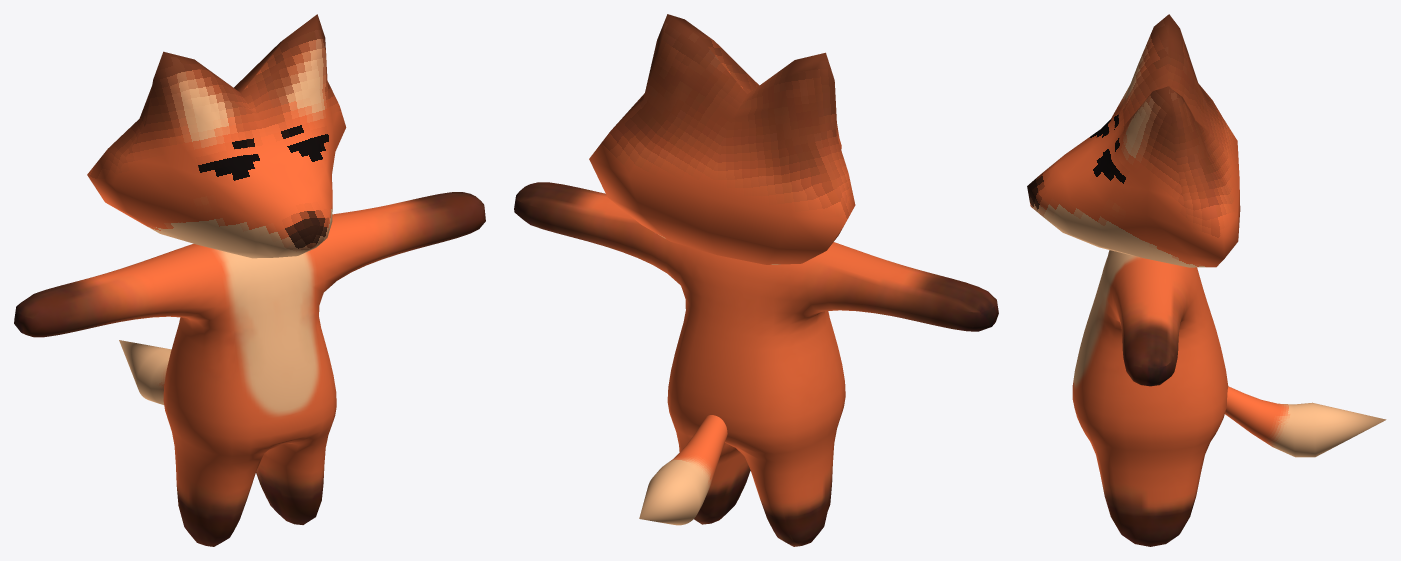
Rendered from foxeeeelast.fbx.
3 views of the same model, side by side, from view 1: azimuth 30°, elevation 25°; view 2: azimuth 150°, elevation 25°; view 3: azimuth 270°, elevation 25° (orthographic). The views are drawn at different scales.
Parts seen in each view (by area): view 1: body, head, tail; view 2: body, head, tail; view 3: body, head, tail.
Boxes of the visible parts, x1,y1,x2,y2 form: body: (14,192,485,546); head: (87,14,346,258); tail: (119,340,171,404); body: (514,182,998,546); head: (589,14,855,264); tail: (639,415,727,525); body: (1072,250,1228,546); head: (1027,14,1240,267); tail: (1225,386,1386,457).
Size of the model in its own units: 608 by 614 by 422.
